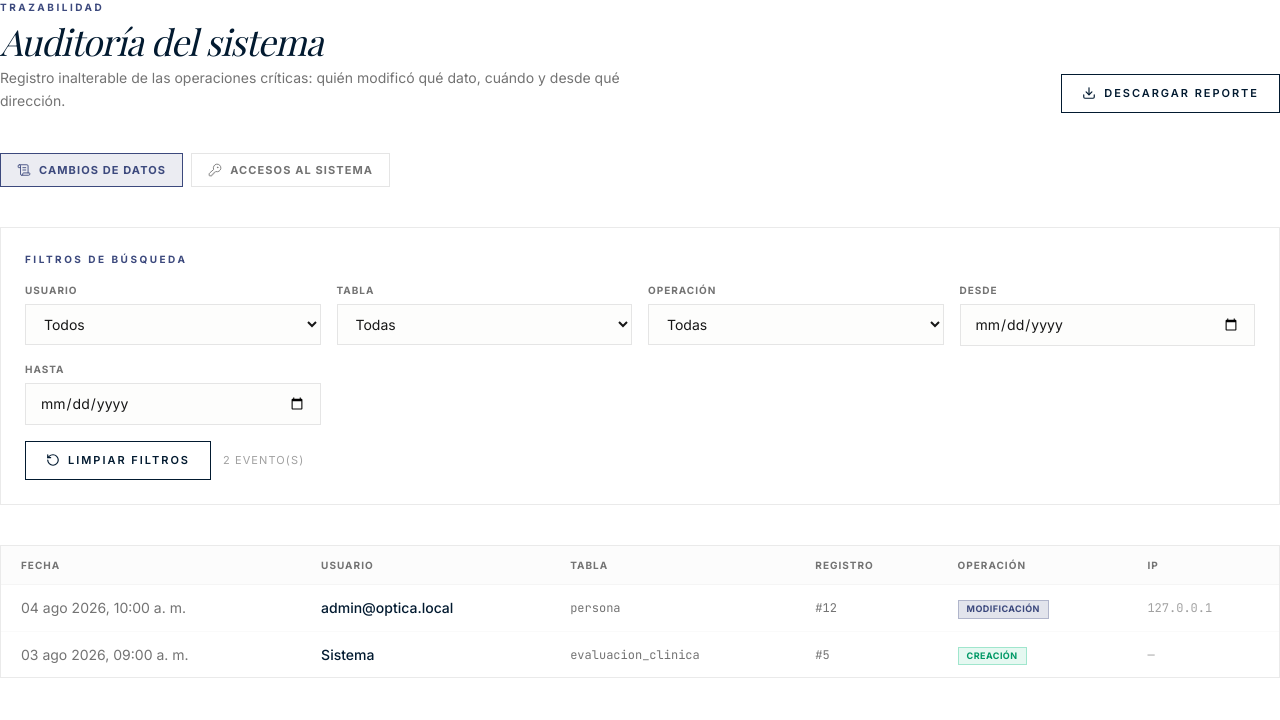
Test case: AuditoriaPage › 3. Detalle del evento › En una creación explica que no hay valor previo, en vez de sugerir una carencia
The width and height of the screenshot is (1280, 720).
Click the cell "evaluacion_clinica" at (673, 654), box [550,631,795,677]
(page scrolled)
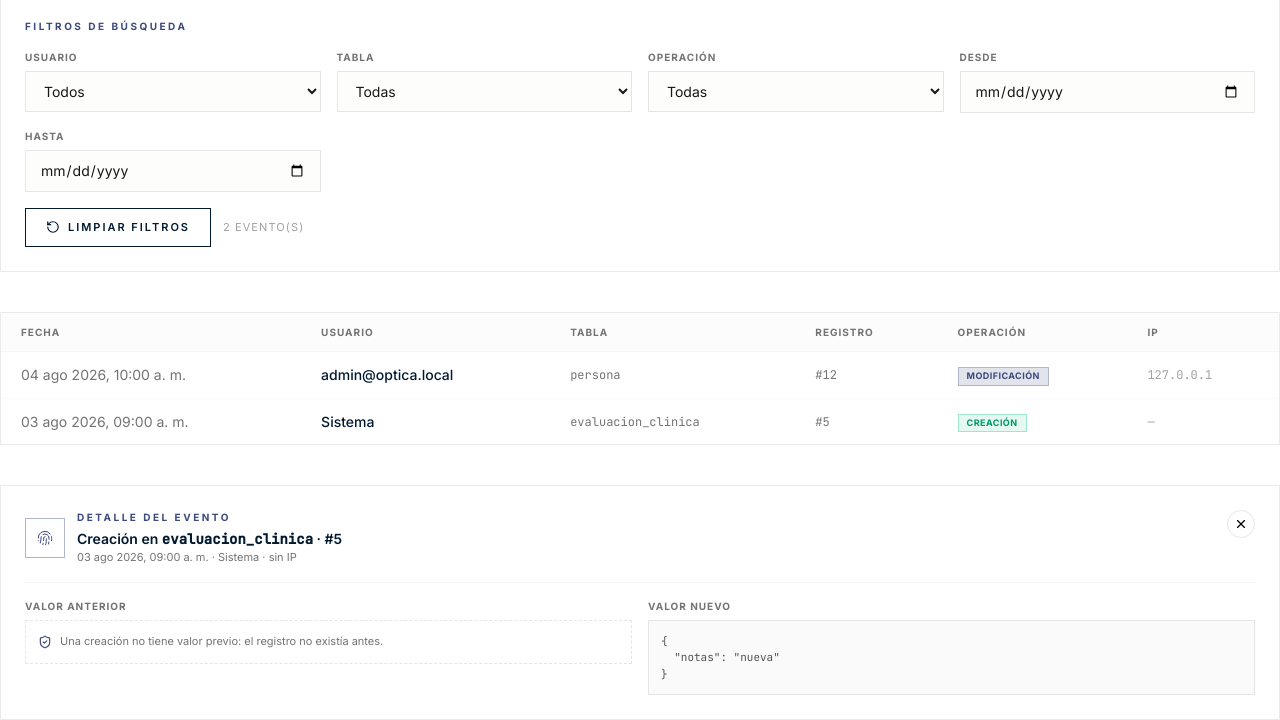
Check: the text "Una creación no tiene valor previo: el registro no existía antes." is shown, box [25,620,632,664]
